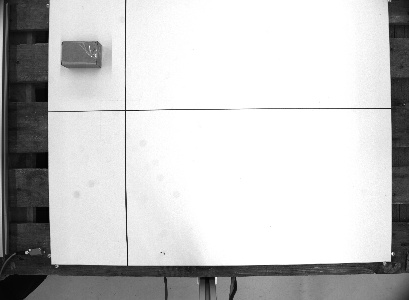b1: (59, 39, 105, 70)
